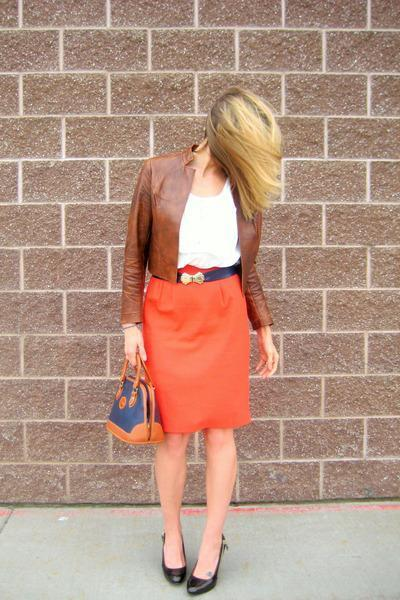bag: (103, 350, 170, 450)
jacket: (119, 147, 286, 329)
shirt: (177, 183, 239, 275)
shoe: (162, 550, 218, 585)
skirt: (141, 276, 250, 436)
